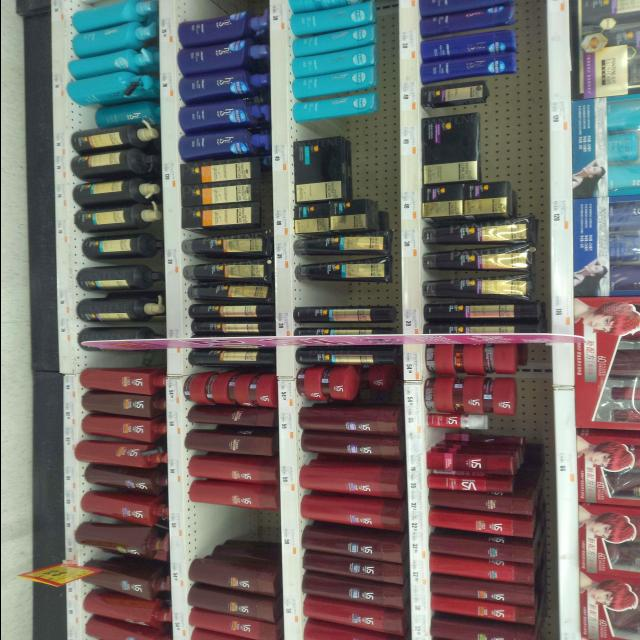empty_space: (190, 512, 272, 537), (298, 283, 374, 309), (292, 119, 372, 137), (180, 0, 251, 16)
